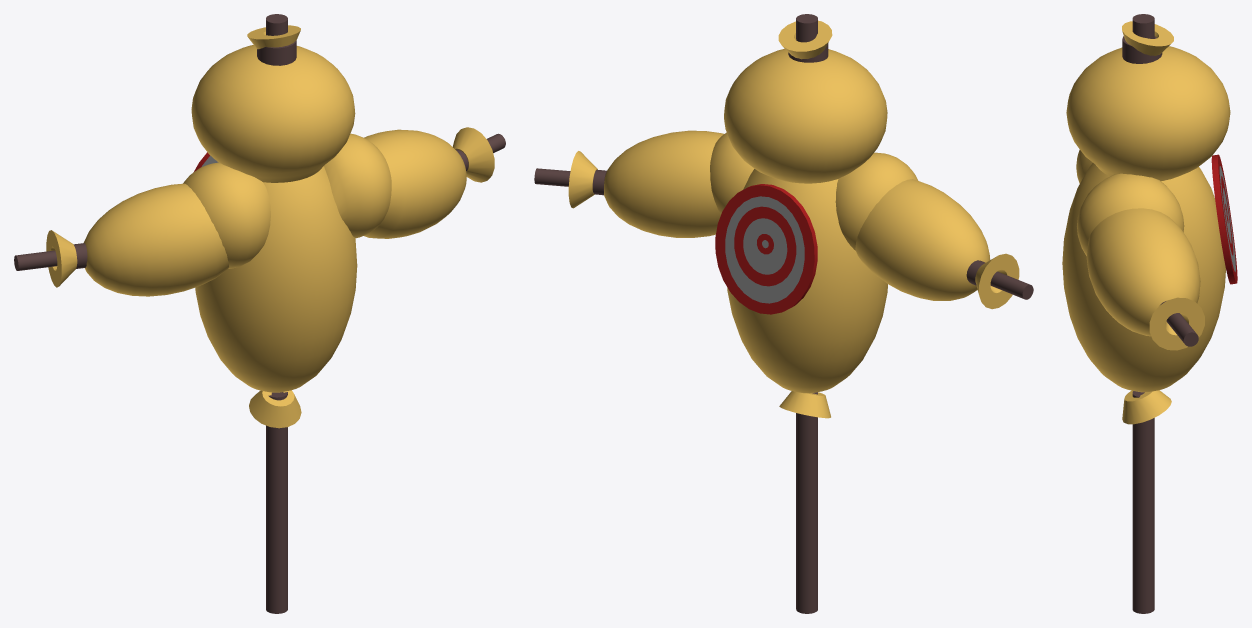
The model's file is pugalo_full.FBX.
The picture shows the model from 3 angles, left to right: view 1: azimuth 30°, elevation 25°; view 2: azimuth 150°, elevation 25°; view 3: azimuth 270°, elevation 25°; orthographic projection.
Parts seen in each view (by area): view 1: pugalo_full; view 2: pugalo_full; view 3: pugalo_full.
Part boxes in pixels (bbox=[...]): pugalo_full: bbox=[14, 14, 505, 613]; pugalo_full: bbox=[534, 14, 1033, 613]; pugalo_full: bbox=[1062, 14, 1237, 613].
Size of the model in its own units: 0.019 by 0.0218 by 0.00585.
